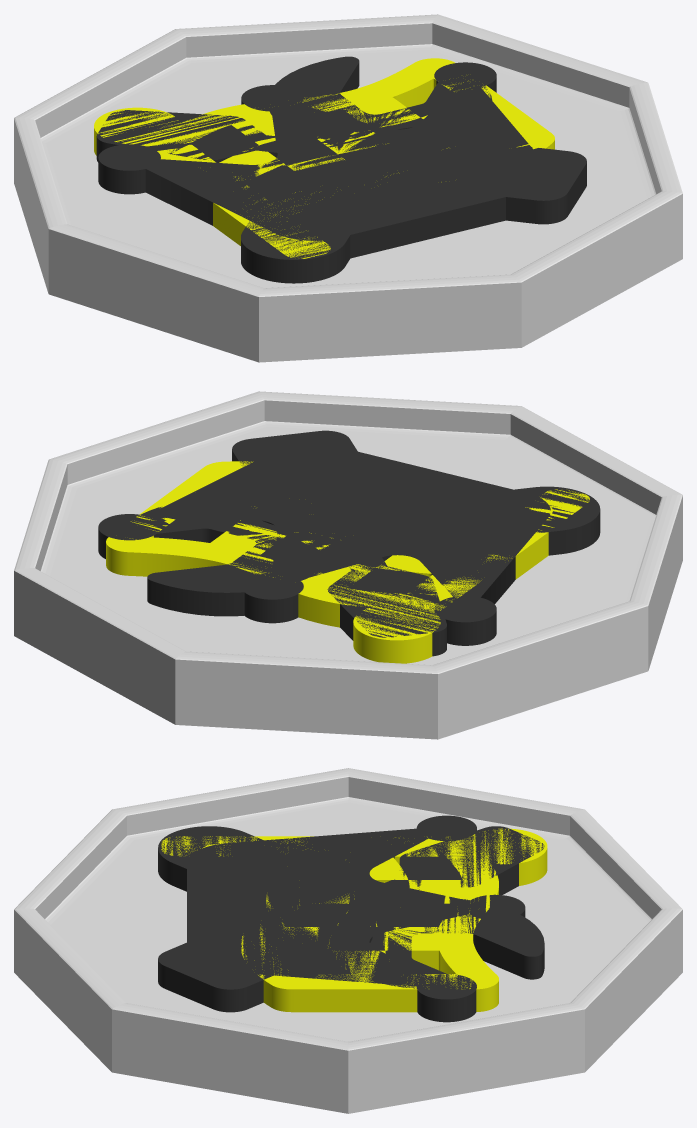
3 views of the same model, one above another, from view 1: azimuth 30°, elevation 25°; view 2: azimuth 150°, elevation 25°; view 3: azimuth 270°, elevation 25° (orthographic). The views are drawn at different scales.
Parts seen in each view (by area): view 1: Cylinder, Curve.001, Curve, Curve.002; view 2: Cylinder, Curve.001, Curve, Curve.002; view 3: Cylinder, Curve.001, Curve, Curve.002.
Part boxes in pixels (x1,y1,x2,y2): Cylinder: (14, 14, 682, 362); Curve.001: (98, 62, 550, 258); Curve: (96, 56, 586, 283); Curve.002: (94, 58, 554, 258); Cylinder: (14, 391, 682, 739); Curve.001: (98, 444, 550, 645); Curve: (121, 430, 600, 656); Curve.002: (106, 461, 589, 663); Cylinder: (14, 768, 682, 1113); Curve.001: (187, 815, 525, 1022); Curve: (158, 826, 544, 1012); Curve.002: (161, 828, 547, 1012).
Size of the model in its own units: 200 by 21.76 by 200.
